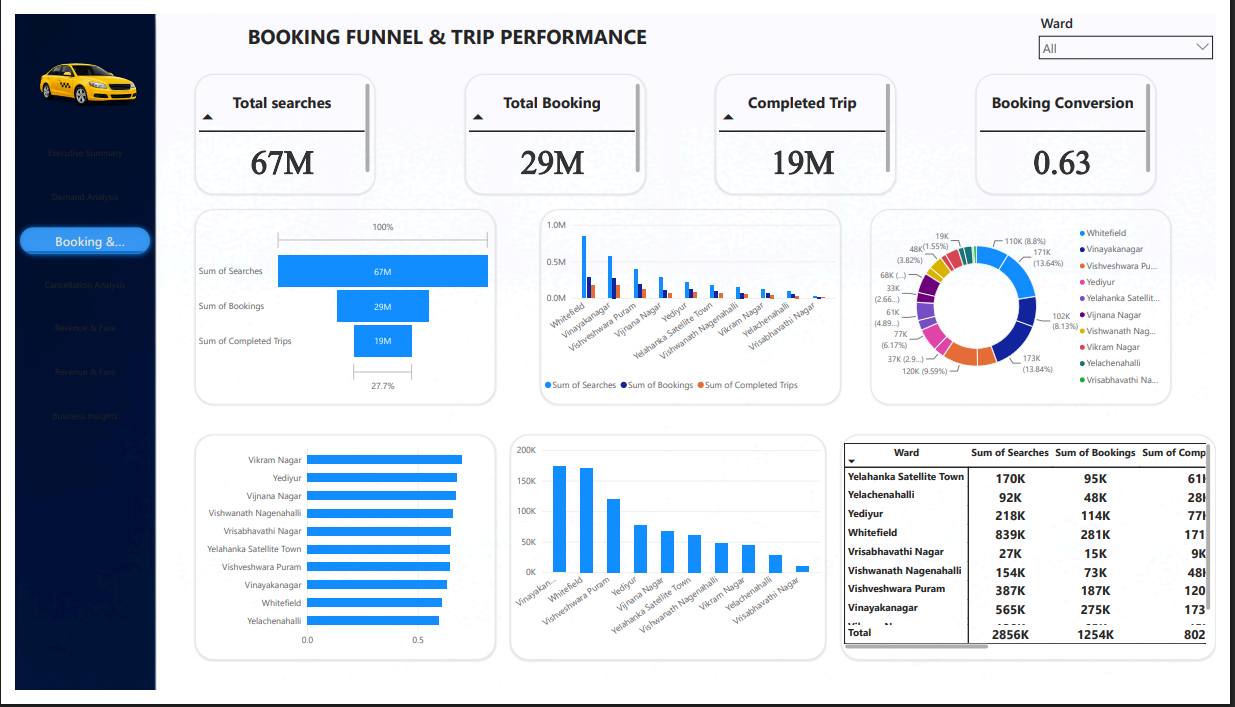

The page's visual inventory and layout, read from the dashboard file:
{"tool":"powerbi","page":{"name":" Booking & Conversion","canvas":[1920,1080],"ordinal":2},"visuals":[{"type":"tableEx","fields":{"Values":["cleaned_driver_data.Total searches"]},"box":[288,96,288,192],"z":0},{"type":"textbox","box":[224,0,928,96],"z":1000},{"type":"tableEx","fields":{"Values":["cleaned_driver_data.Total Booking"]},"box":[720,96,288,192],"z":2000},{"type":"tableEx","fields":{"Values":["cleaned_driver_data.Completed Trip"]},"box":[1120,96,288,192],"z":3000},{"type":"tableEx","fields":{"Values":["cleaned_driver_data.Booking Conversion"]},"box":[1536,96,288,192],"z":4000},{"type":"funnel","fields":{"Y":["Sum(cleaned_driver_data.Searches)","Sum(cleaned_driver_data.Bookings)","Sum(cleaned_driver_data.Completed Trips)"]},"box":[288,312,480,312],"z":5000},{"type":"clusteredColumnChart","fields":{"Category":["cleaned_driver_data.Ward"],"Y":["Sum(cleaned_driver_data.Searches)","Sum(cleaned_driver_data.Bookings)","Sum(cleaned_driver_data.Completed Trips)"]},"box":[840,312,480,312],"z":6000},{"type":"donutChart","fields":{"Category":["cleaned_driver_data.Ward"],"Y":["cleaned_driver_data.Cancelled Trips","cleaned_driver_data.Completed Trip"]},"box":[1368,312,480,312],"z":7000},{"type":"barChart","fields":{"Category":["cleaned_driver_data.Ward"],"Y":["cleaned_driver_data.Booking Conversion"]},"box":[288,672,480,360],"z":8000},{"type":"columnChart","fields":{"Category":["cleaned_driver_data.Ward"],"Y":["Sum(cleaned_driver_data.Completed Trips)"]},"box":[792,672,504,360],"z":9000},{"type":"pivotTable","fields":{"Rows":["cleaned_driver_data.Ward"],"Values":["Sum(cleaned_driver_data.Searches)","Sum(cleaned_driver_data.Bookings)","Sum(cleaned_driver_data.Completed Trips)","cleaned_driver_data.Cancelled Trips","cleaned_driver_data.Booking Conversion","Sum(cleaned_driver_data.Drivers' Earnings)"]},"box":[1320,672,600,360],"z":10000},{"type":"slicer","fields":{"Values":["cleaned_driver_data.Ward"]},"box":[1632,0,288,96],"z":11000},{"type":"pageNavigator","box":[0,192,224,480],"z":13500},{"type":"image","box":[0,0,288,192],"z":13501}]}

Visuals, with their boxes on the page's 1920x1080 design canvas (x1, y1, x2, y2). These are canvas units, not pixel positions in the 1235x707 screenshot, which may show the page scaled, cropped or inside an application window:
tableEx - cleaned_driver_data.Total searches: BBox(288, 96, 576, 288)
textbox: BBox(224, 0, 1152, 96)
tableEx - cleaned_driver_data.Total Booking: BBox(720, 96, 1008, 288)
tableEx - cleaned_driver_data.Completed Trip: BBox(1120, 96, 1408, 288)
tableEx - cleaned_driver_data.Booking Conversion: BBox(1536, 96, 1824, 288)
funnel - Sum(cleaned_driver_data.Searches) x Sum(cleaned_driver_data.Bookings): BBox(288, 312, 768, 624)
clusteredColumnChart - cleaned_driver_data.Ward x Sum(cleaned_driver_data.Searches): BBox(840, 312, 1320, 624)
donutChart - cleaned_driver_data.Ward x cleaned_driver_data.Cancelled Trips: BBox(1368, 312, 1848, 624)
barChart - cleaned_driver_data.Ward x cleaned_driver_data.Booking Conversion: BBox(288, 672, 768, 1032)
columnChart - cleaned_driver_data.Ward x Sum(cleaned_driver_data.Completed Trips): BBox(792, 672, 1296, 1032)
pivotTable - cleaned_driver_data.Ward x Sum(cleaned_driver_data.Searches): BBox(1320, 672, 1920, 1032)
slicer - cleaned_driver_data.Ward: BBox(1632, 0, 1920, 96)
pageNavigator: BBox(0, 192, 224, 672)
image: BBox(0, 0, 288, 192)
